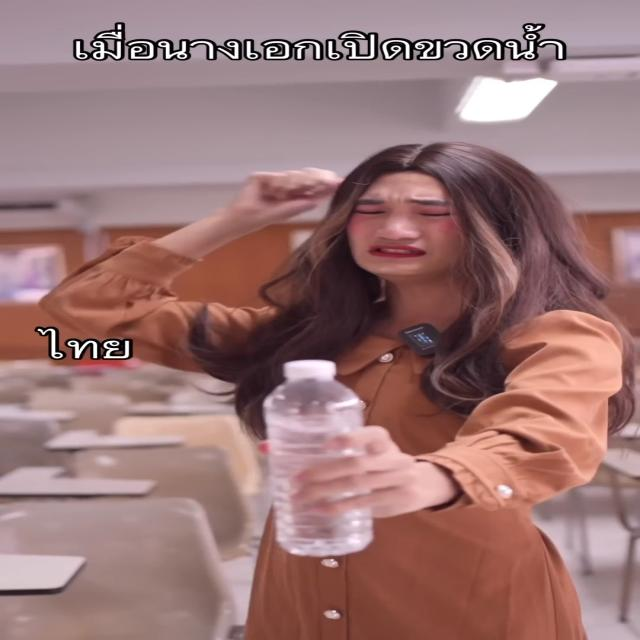bottle: (264, 358, 378, 558)
